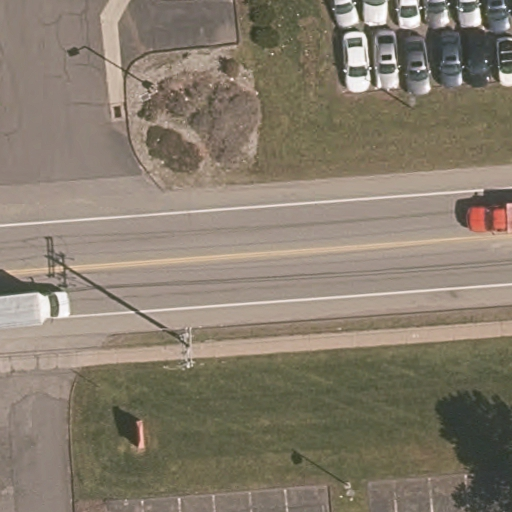DT: (165, 317, 203, 377)
